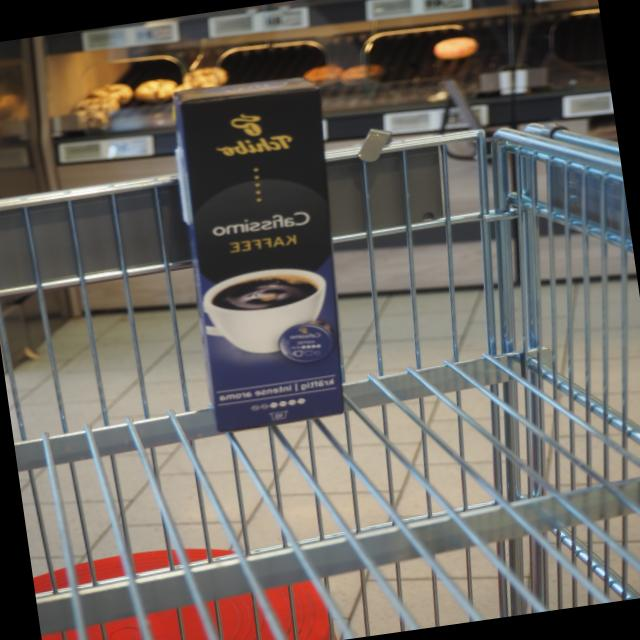Simo Kaffee Kraft: (179, 86, 349, 434)
